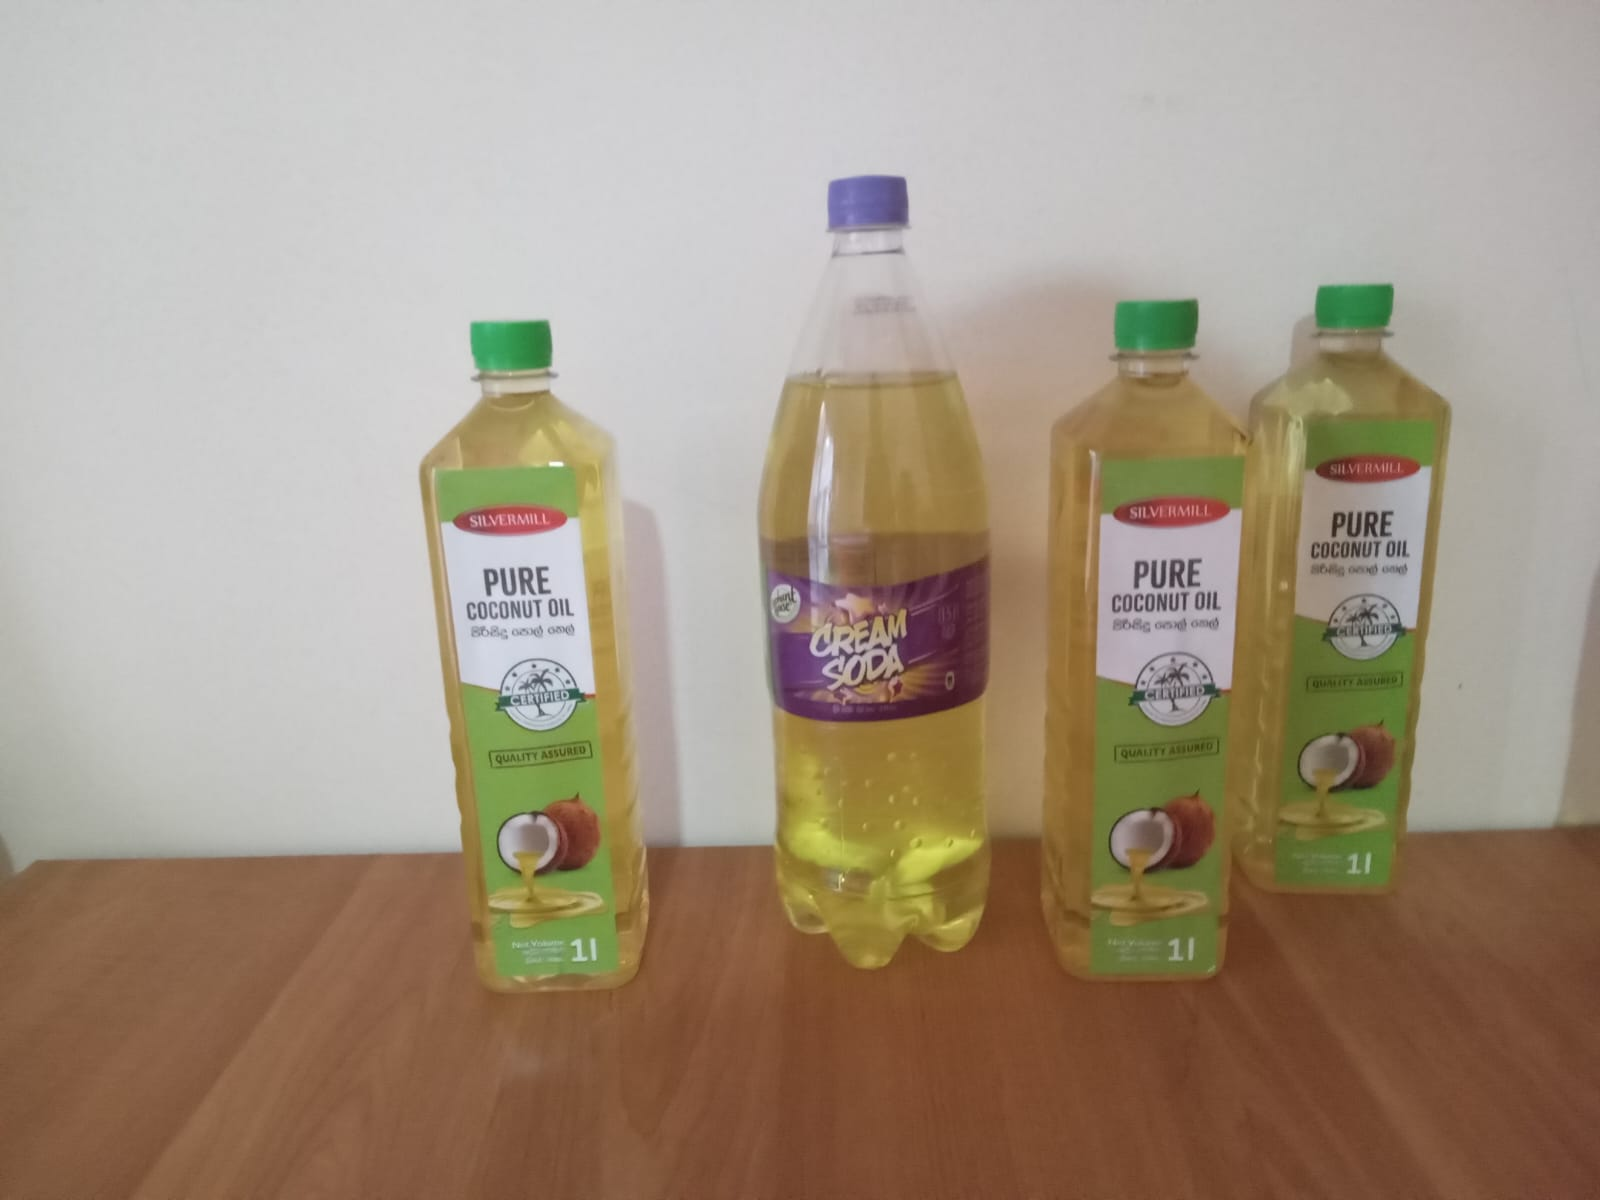L: (756, 173, 991, 978)
